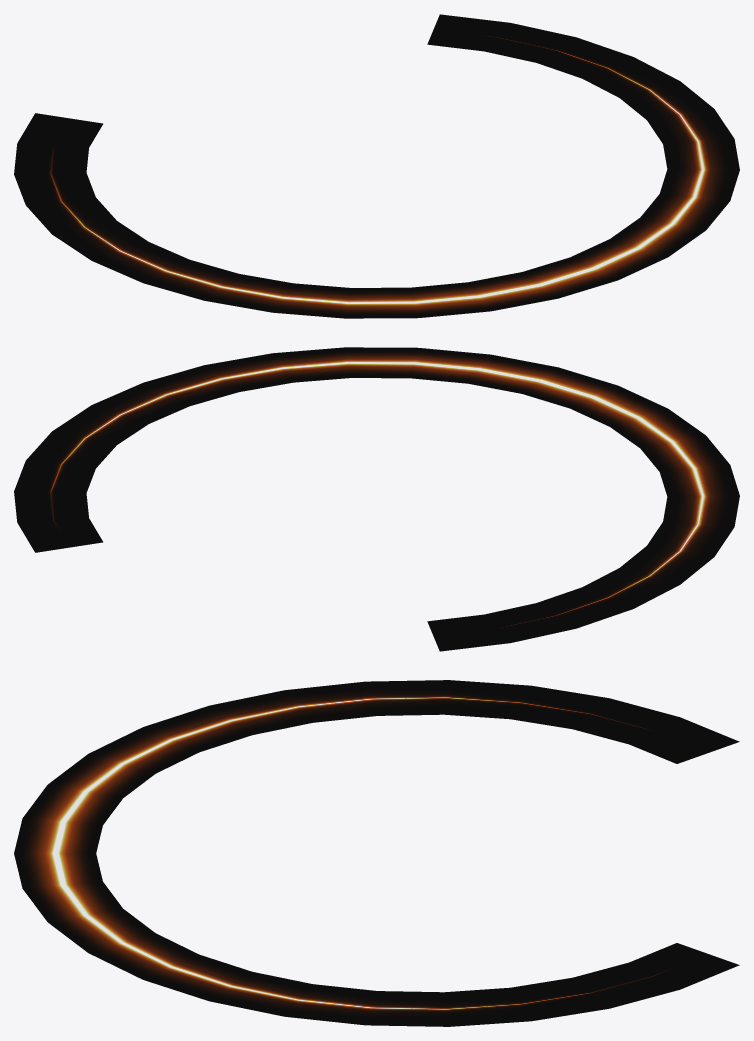
File: Arc_020cm280d.fbx
The picture shows the model from 3 angles, top to bottom: view 1: azimuth 30°, elevation 25°; view 2: azimuth 150°, elevation 25°; view 3: azimuth 270°, elevation 25°; orthographic projection. The views are drawn at different scales.
Parts seen in each view (by area): view 1: Arc_020cm280d; view 2: Arc_020cm280d; view 3: Arc_020cm280d.
Boxes of the visible parts, left/top/right/bottom form: Arc_020cm280d: left=14, top=14, right=739, bottom=318; Arc_020cm280d: left=14, top=347, right=739, bottom=651; Arc_020cm280d: left=14, top=680, right=739, bottom=1026.
Bounding box in the file's own units: 200 × 2.88e-05 × 177.
